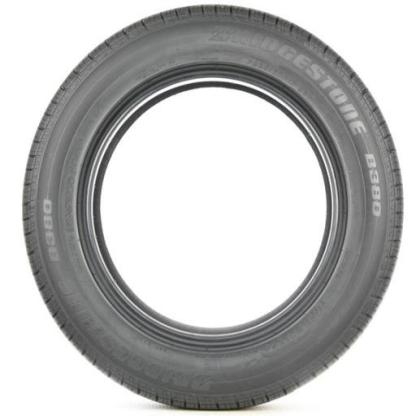Tire: (20, 5, 405, 410)
